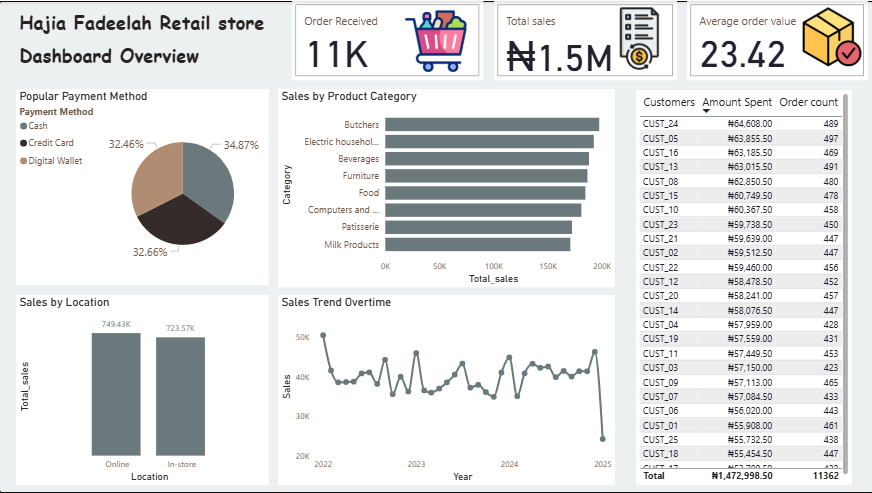

The page's visual inventory and layout, read from the dashboard file:
{"tool":"powerbi","page":{"name":"Page 1","canvas":[1280,720],"ordinal":0},"visuals":[{"type":"lineChart","title":"Sales Trend Overtime","fields":{"Y":["retail_store_sales.Total_sales"],"Category":["retail_store_sales.Transaction Date.Variation.Date Hierarchy.Year","retail_store_sales.Transaction Date.Variation.Date Hierarchy.Quarter","retail_store_sales.Transaction Date.Variation.Date Hierarchy.Month"]},"box":[408.3,430.2,493.2,278],"z":0},{"type":"barChart","title":"Sales by Product Category","fields":{"Category":["retail_store_sales.Category"],"Y":["retail_store_sales.Total_sales"]},"box":[408.3,128.8,493.2,289.8],"z":1000},{"type":"columnChart","title":"Sales by Location","fields":{"Y":["retail_store_sales.Total_sales"],"Category":["retail_store_sales.Location"]},"box":[24.9,430.2,370.2,278],"z":2000},{"type":"pieChart","title":"Popular Payment Method","fields":{"Category":["retail_store_sales.Payment Method"],"Y":["retail_store_sales.Total_sales"]},"box":[24.9,128.8,370.2,286.8],"z":3000},{"type":"tableEx","fields":{"Values":["retail_store_sales.Customer ID","retail_store_sales.Total Spent","retail_store_sales.Order_count"]},"box":[932.2,130.2,316.1,578],"z":4000},{"type":"cardVisual","fields":{"Data":["retail_store_sales.Average_order_value"]},"box":[1006.8,0,264.9,115.6],"z":5000},{"type":"cardVisual","fields":{"Data":["retail_store_sales.Total_sales"]},"box":[724.4,0,267.8,115.6],"z":6000},{"type":"cardVisual","fields":{"Data":["retail_store_sales.Order_count"]},"box":[428.8,0,279.5,115.6],"z":7000},{"type":"textbox","box":[24.9,0,370.2,76.1],"z":8000},{"type":"textbox","box":[24.9,48.3,370.2,57.1],"z":9000},{"type":"image","box":[569.3,8.8,139,99.5],"z":10000},{"type":"image","box":[881,2.9,111.2,103.9],"z":11000},{"type":"image","box":[1157.6,0,122.9,105.4],"z":12000}]}

Visuals, with their boxes in screenshot pixels (x1, y1, x2, y2), scaled from the page's 1280x720 canvas onto the 872x493 screenshot:
"Sales Trend Overtime" lineChart: crop(278, 295, 614, 485)
"Sales by Product Category" barChart: crop(278, 88, 614, 287)
"Sales by Location" columnChart: crop(17, 295, 269, 485)
"Popular Payment Method" pieChart: crop(17, 88, 269, 285)
tableEx - retail_store_sales.Customer ID x retail_store_sales.Total Spent: crop(635, 89, 850, 485)
cardVisual - retail_store_sales.Average_order_value: crop(686, 0, 866, 79)
cardVisual - retail_store_sales.Total_sales: crop(493, 0, 676, 79)
cardVisual - retail_store_sales.Order_count: crop(292, 0, 483, 79)
textbox: crop(17, 0, 269, 52)
textbox: crop(17, 33, 269, 72)
image: crop(388, 6, 483, 74)
image: crop(600, 2, 676, 73)
image: crop(789, 0, 871, 72)
